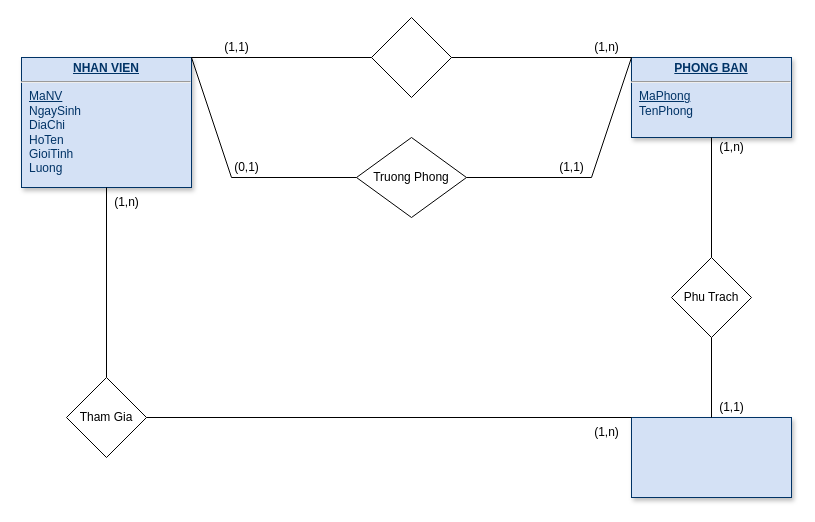
This 815x522 diagram has some shape labels left out. The centre of each missing label's shape, as x and y in pixels:
"DE AN MaDeAn TenDeAn DiaDiem_DeAn" goes at (x=712, y=458).
"Lam Viec" goes at (x=411, y=57).
